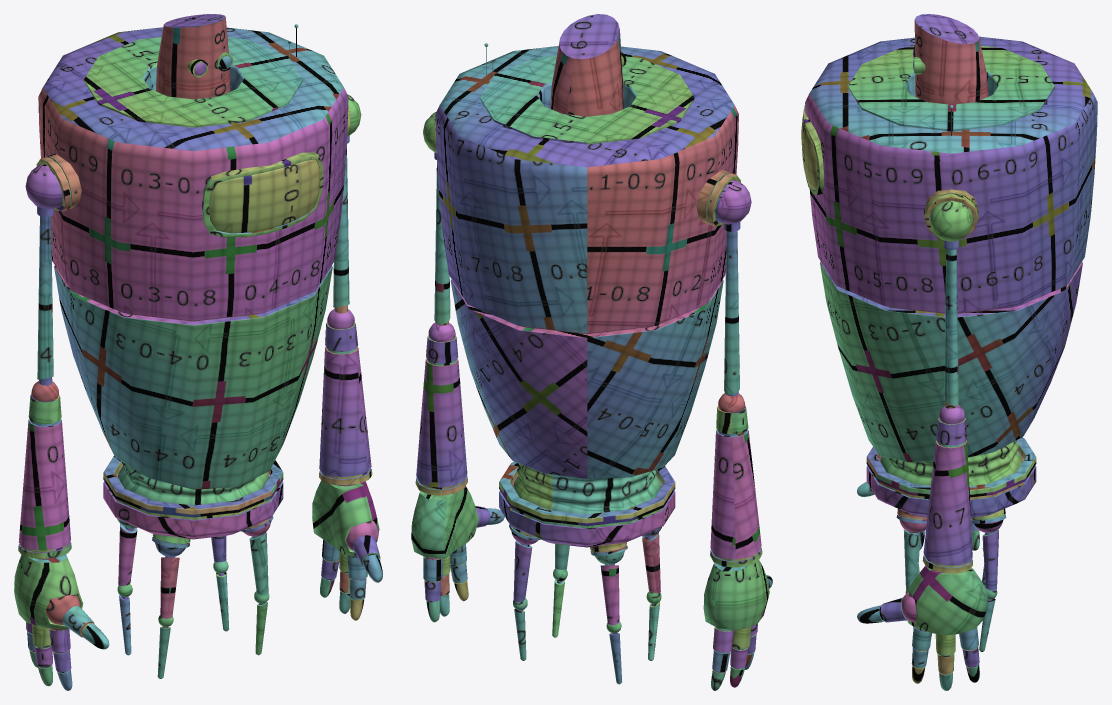
Rendered from ROBOUV (3).fbx.
3 views of the same model, side by side, from view 1: azimuth 30°, elevation 25°; view 2: azimuth 150°, elevation 25°; view 3: azimuth 270°, elevation 25° (orthographic). The views are drawn at different scales.
Visible parts, largest first — view 1: RobotA_UV_Start:Torso_Geo, RobotA_UV_Start:R_Elbow_Geo, RobotA_UV_Start:Hip_Geo, RobotA_UV_Start:L_Elbow_Geo, RobotA_UV_Start:Head_Geo, RobotA_UV_Start:R_Shoulder_Geo, RobotA_UV_Start:R_Hand_Geo, RobotA_UV_Start:L_Hand_Geo, RobotA_UV_Start:Spine_Geo, RobotA_UV_Start:L_Shoulder_Geo, RobotA_UV_Start:R_FT_Thigh_Geo, RobotA_UV_Start:R_Finger_01_Joint_01_Geo (+7 smaller); view 2: RobotA_UV_Start:Torso_Geo, RobotA_UV_Start:Hip_Geo, RobotA_UV_Start:R_Elbow_Geo, RobotA_UV_Start:L_Elbow_Geo, RobotA_UV_Start:Head_Geo, RobotA_UV_Start:Spine_Geo, RobotA_UV_Start:R_Hand_Geo, RobotA_UV_Start:L_Hand_Geo, RobotA_UV_Start:R_Shoulder_Geo, RobotA_UV_Start:L_Shoulder_Geo, RobotA_UV_Start:R_BK_Thigh_Geo, RobotA_UV_Start:L_BK_Thigh_Geo (+5 smaller); view 3: RobotA_UV_Start:Torso_Geo, RobotA_UV_Start:L_Elbow_Geo, RobotA_UV_Start:Head_Geo, RobotA_UV_Start:Hip_Geo, RobotA_UV_Start:L_Hand_Geo, RobotA_UV_Start:L_Shoulder_Geo, RobotA_UV_Start:Spine_Geo, RobotA_UV_Start:L_BK_Thigh_Geo, RobotA_UV_Start:L_FT_Thigh_Geo, RobotA_UV_Start:L_Finger_01_Joint_01_Geo, RobotA_UV_Start:L_BK_Knee_Geo.
Boxes of the visible parts, x1,y1,x2,y2 form: RobotA_UV_Start:Torso_Geo: (36, 24, 350, 489); RobotA_UV_Start:R_Elbow_Geo: (18, 381, 71, 558); RobotA_UV_Start:Hip_Geo: (103, 456, 283, 547); RobotA_UV_Start:L_Elbow_Geo: (319, 309, 372, 485); RobotA_UV_Start:Head_Geo: (155, 14, 233, 99); RobotA_UV_Start:R_Shoulder_Geo: (25, 164, 62, 385); RobotA_UV_Start:R_Hand_Geo: (14, 554, 83, 629); RobotA_UV_Start:L_Hand_Geo: (312, 480, 379, 556); RobotA_UV_Start:Spine_Geo: (118, 461, 268, 505); RobotA_UV_Start:L_Shoulder_Geo: (333, 94, 361, 313); RobotA_UV_Start:R_FT_Thigh_Geo: (155, 543, 185, 618); RobotA_UV_Start:R_Finger_01_Joint_01_Geo: (45, 594, 94, 637); RobotA_UV_Start:Torso_Geo: (433, 43, 740, 479); RobotA_UV_Start:Hip_Geo: (499, 462, 675, 555); RobotA_UV_Start:R_Elbow_Geo: (710, 393, 762, 567); RobotA_UV_Start:L_Elbow_Geo: (415, 322, 467, 495); RobotA_UV_Start:Head_Geo: (550, 14, 626, 116); RobotA_UV_Start:Spine_Geo: (513, 464, 660, 514); RobotA_UV_Start:R_Hand_Geo: (703, 560, 769, 629); RobotA_UV_Start:L_Hand_Geo: (411, 486, 478, 558); RobotA_UV_Start:R_Shoulder_Geo: (715, 180, 751, 396); RobotA_UV_Start:L_Shoulder_Geo: (423, 112, 450, 325); RobotA_UV_Start:R_BK_Thigh_Geo: (595, 551, 624, 625); RobotA_UV_Start:L_BK_Thigh_Geo: (511, 532, 537, 602); RobotA_UV_Start:Torso_Geo: (801, 36, 1097, 462); RobotA_UV_Start:L_Elbow_Geo: (922, 405, 972, 573); RobotA_UV_Start:Head_Geo: (913, 14, 988, 104); RobotA_UV_Start:Hip_Geo: (866, 437, 1036, 523); RobotA_UV_Start:L_Hand_Geo: (907, 565, 987, 635); RobotA_UV_Start:L_Shoulder_Geo: (930, 200, 972, 408); RobotA_UV_Start:Spine_Geo: (880, 440, 1022, 485); RobotA_UV_Start:L_BK_Thigh_Geo: (974, 520, 1003, 590); RobotA_UV_Start:L_FT_Thigh_Geo: (899, 520, 926, 590); RobotA_UV_Start:L_Finger_01_Joint_01_Geo: (881, 592, 916, 622); RobotA_UV_Start:L_BK_Knee_Geo: (979, 587, 997, 651).
Bounding box in the file's own units: 9.14 × 16.07 × 7.09.
Materials: 3 (3 with a texture image).
